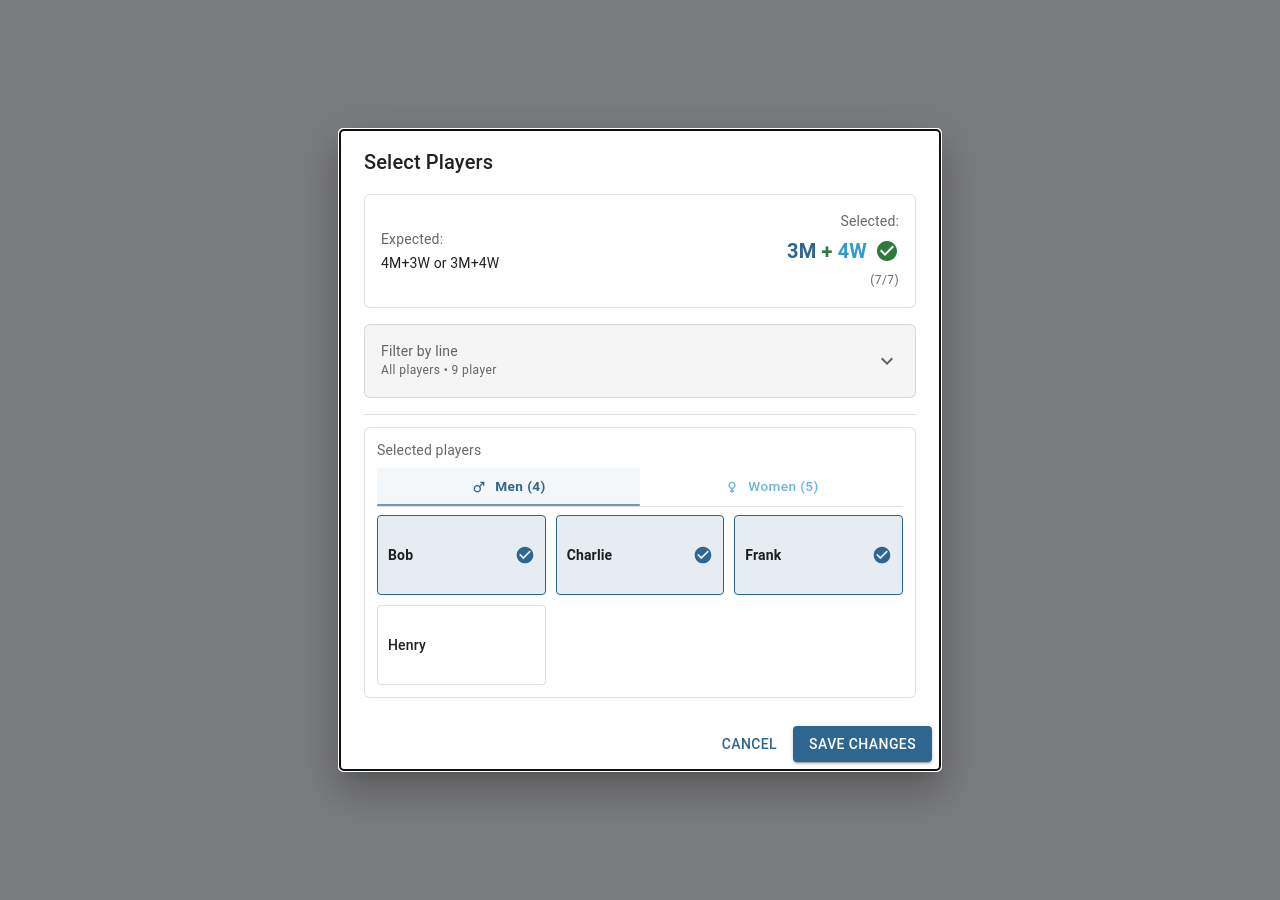
ManagePlayersDialog › Line Filtering › is collapsed by default and expands line filter cards on toggle
This screenshot has width=1280, height=900.
Expected: the button "o-line" is not shown
Click the button "Filter by line All players • 9 player" at (419, 351), box top-left (381, 341), bottom-right (899, 381)
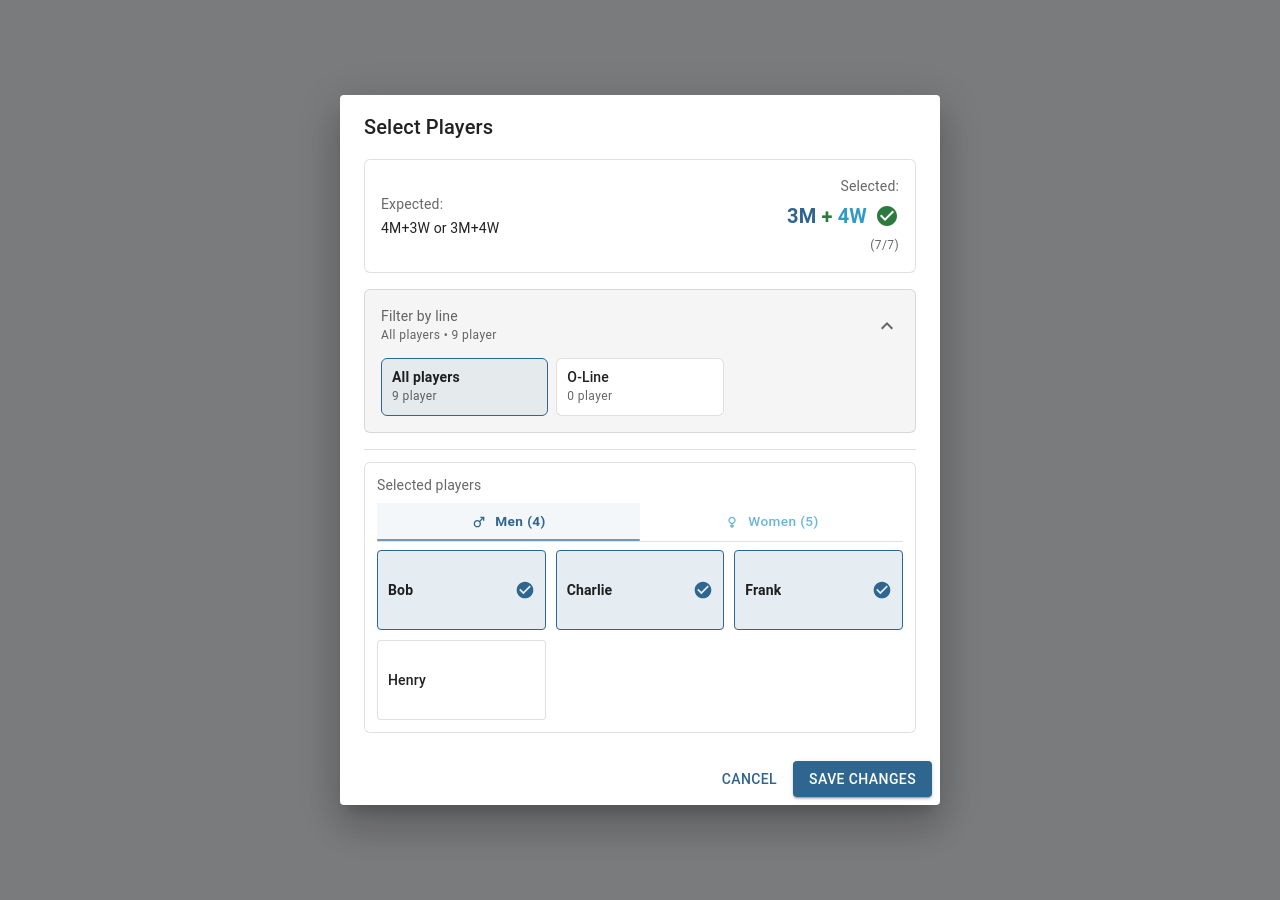
Expected: the button "Filter by line All players • 9 player" is expanded, top-left (381, 306), bottom-right (899, 346)
Expected: the button "All players 9 player" is shown, top-left (381, 358), bottom-right (548, 416)
Expected: the button "O-Line 0 player" is shown, top-left (556, 358), bottom-right (724, 416)
